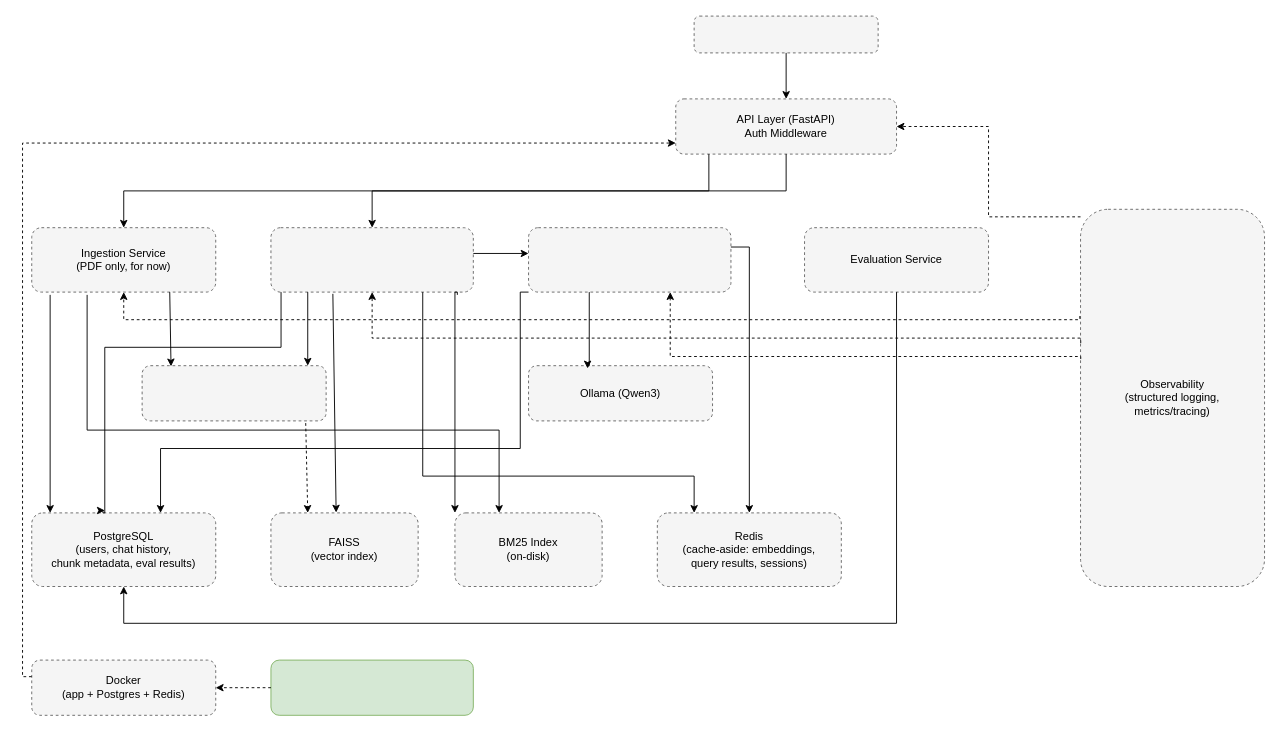
Some shapes in this 1281 by 731 pixel diagram are drawn without their labels. The shapes that lost their labels are listed below. From the top down, each one's centre as x and y in pixels, then its label:
At point (785, 34): "Client".
At point (371, 259): "Retrieval Service (BM25 + FAISS + RRF + Rerank)".
At point (629, 259): "Generation Service (Ollama, streaming, memory)".
At point (233, 393): "Nomic Embed".
At point (371, 687): "GitHub Actions CI/CD (ERP-008, built)".
